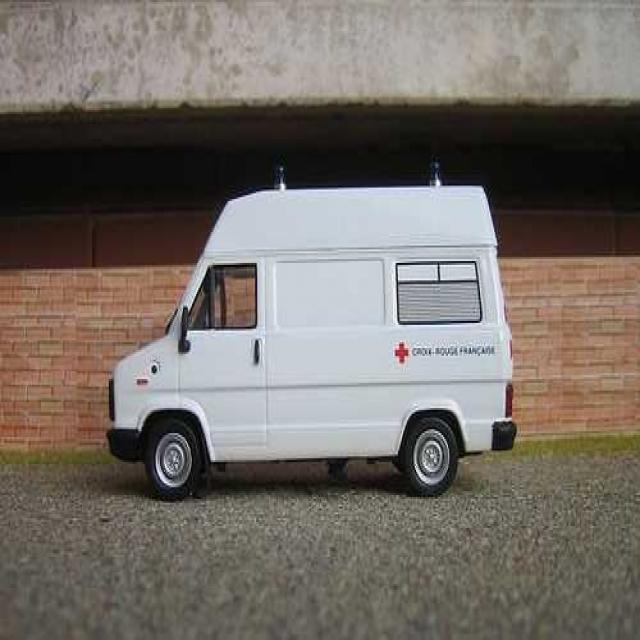emergency-vehicle: (105, 170, 520, 491)
